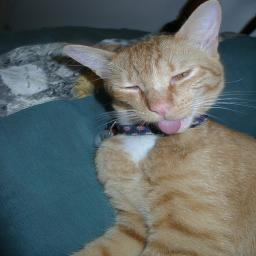catnose: (148, 102, 174, 119)
